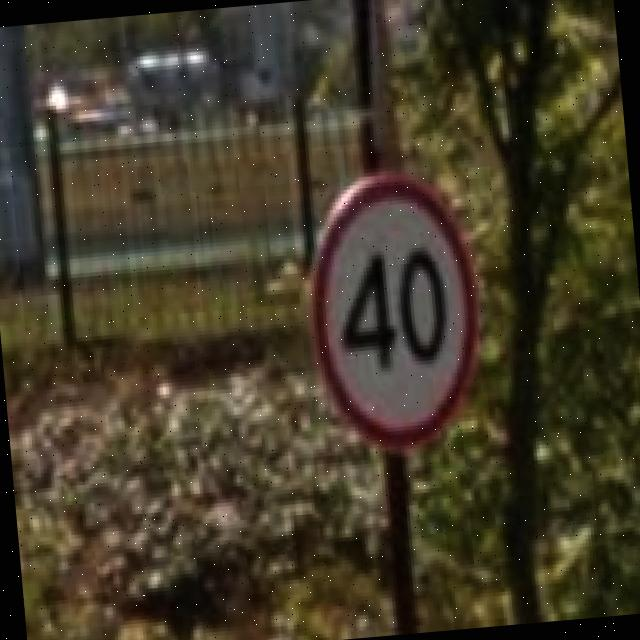Ograniczenie predkosci do 40: (298, 168, 488, 456)
